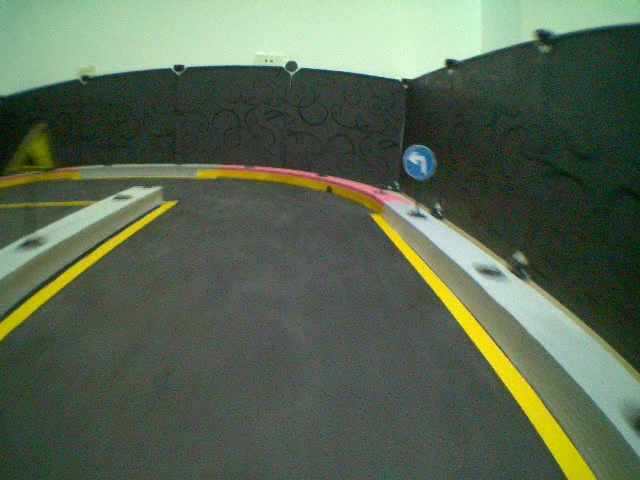fast: (8, 120, 60, 176)
turn: (402, 143, 438, 179)
